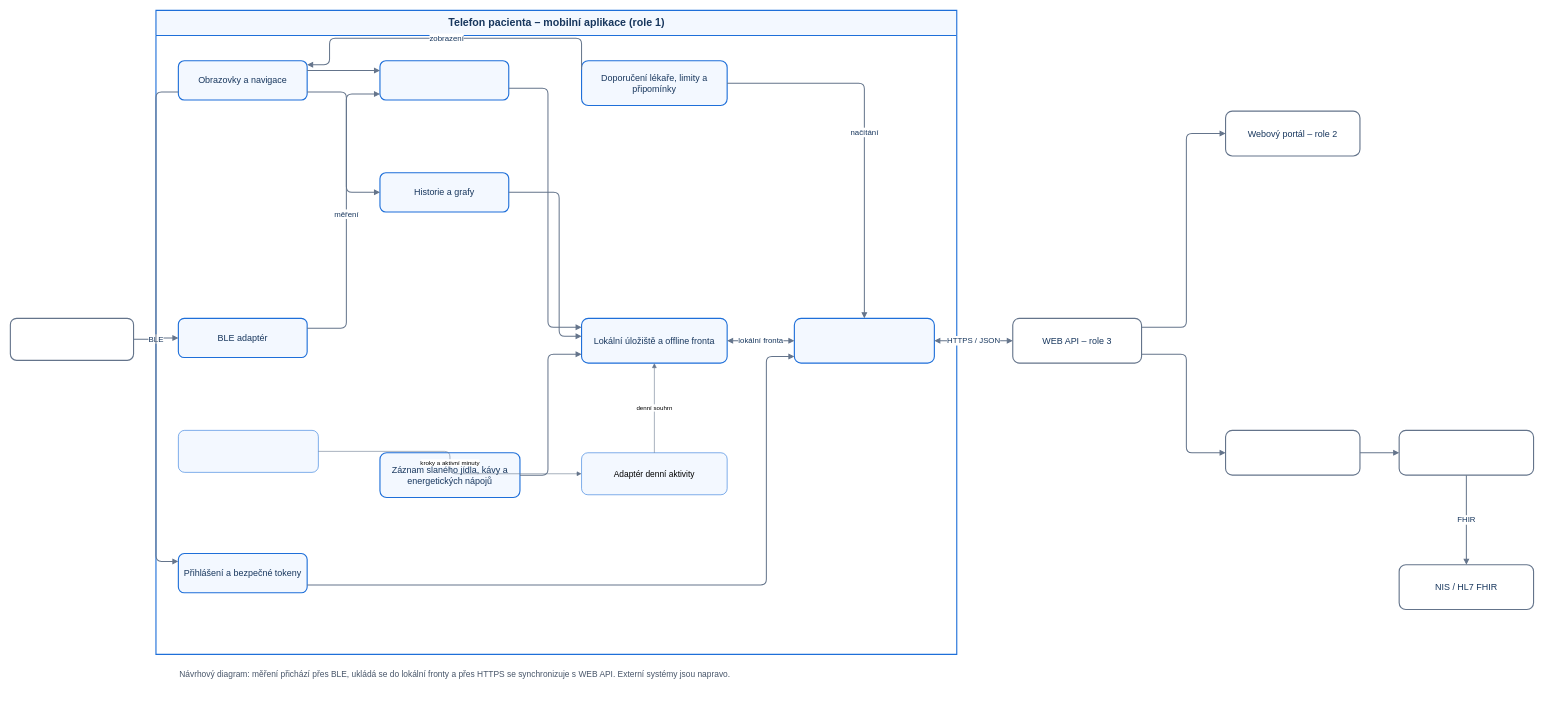
Some shapes in this 1543 by 706 pixel diagram are drawn without their labels. The centre of each missing label's shape, as x and y in pixels:
"BLE tlakoměr" goes at pixel 72 339.
"Databáze – role 3" goes at pixel 1292 452.
"Formuláře a validace" goes at pixel 444 80.
"Integrátor NIS – role 4" goes at pixel 1466 452.
"Pohybové senzory / systémové API" goes at pixel 248 451.
"Synchronizační služba" goes at pixel 864 340.
